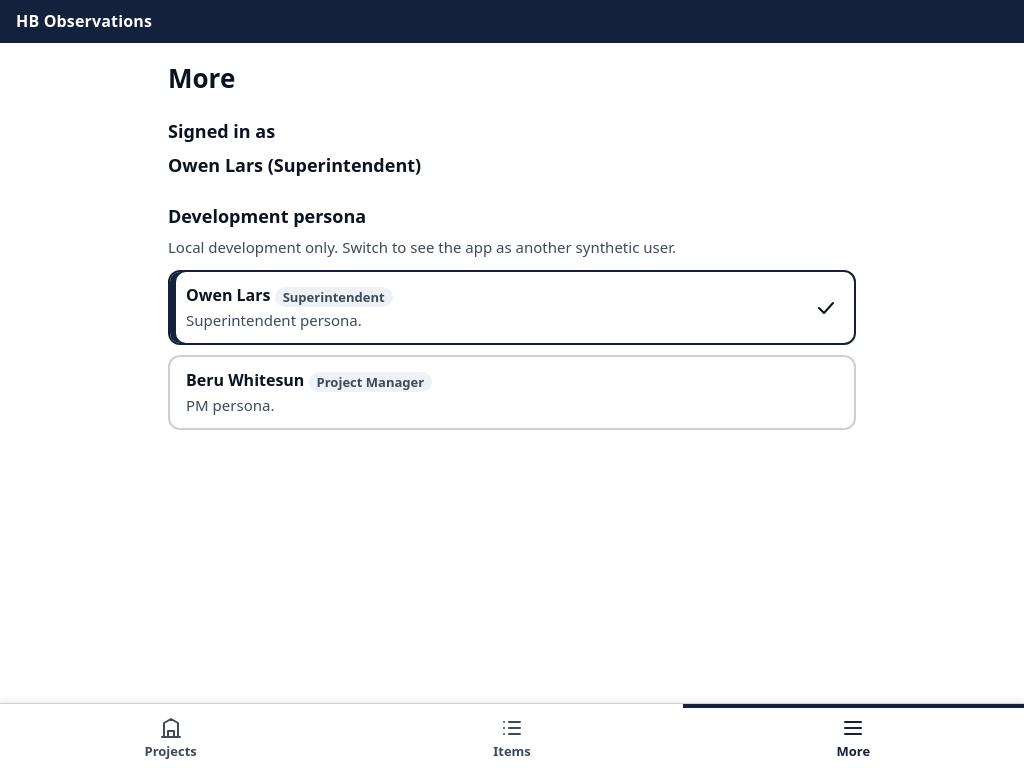
session and navigation › switches persona from More
Expected: the text "Owen Lars (Superintendent)" is shown, 168,154 -> 421,178
Click the button "Beru Whitesun Project Manager PM persona.". click: click(245, 380)
box: 168,355 -> 856,430
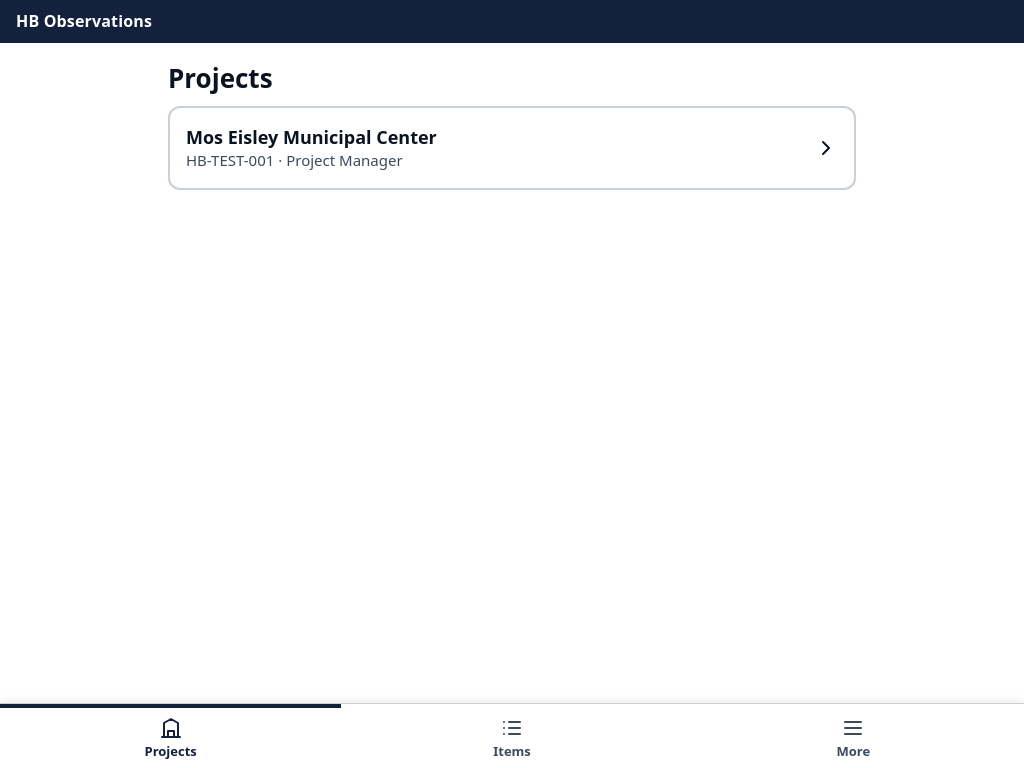
Now the heading "Projects" is shown, box 168,60 -> 273,96
